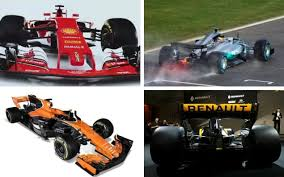FormulaOneCar: (4, 93, 136, 177), (1, 4, 141, 82), (148, 94, 284, 173), (154, 27, 275, 76)
